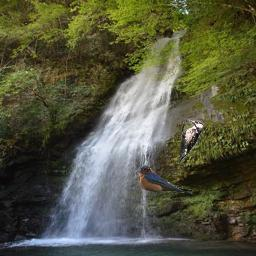Swallow: (138, 165, 198, 195)
Woodpecker: (179, 118, 204, 165)
